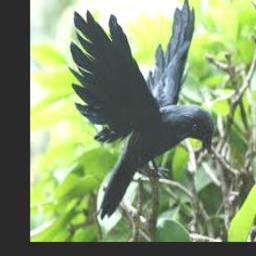Crow: (69, 0, 214, 220)
